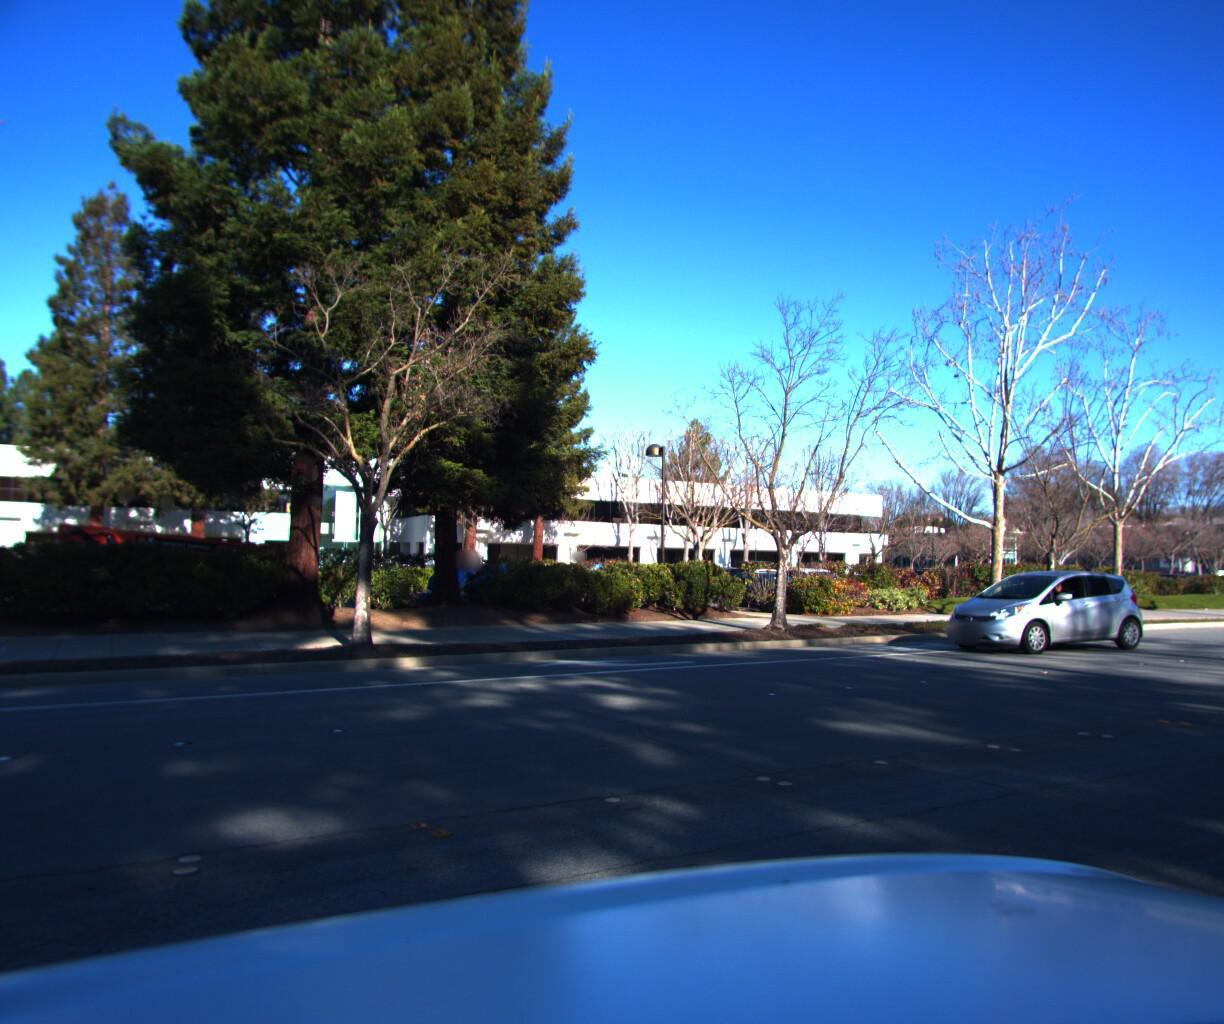car: (926, 563, 1154, 648)
